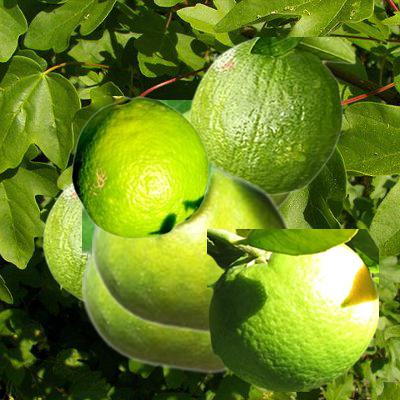dalandan: (92, 163, 292, 335), (207, 229, 377, 390), (189, 37, 355, 194), (82, 208, 229, 373), (71, 96, 208, 238), (162, 100, 292, 208), (42, 183, 86, 302)
